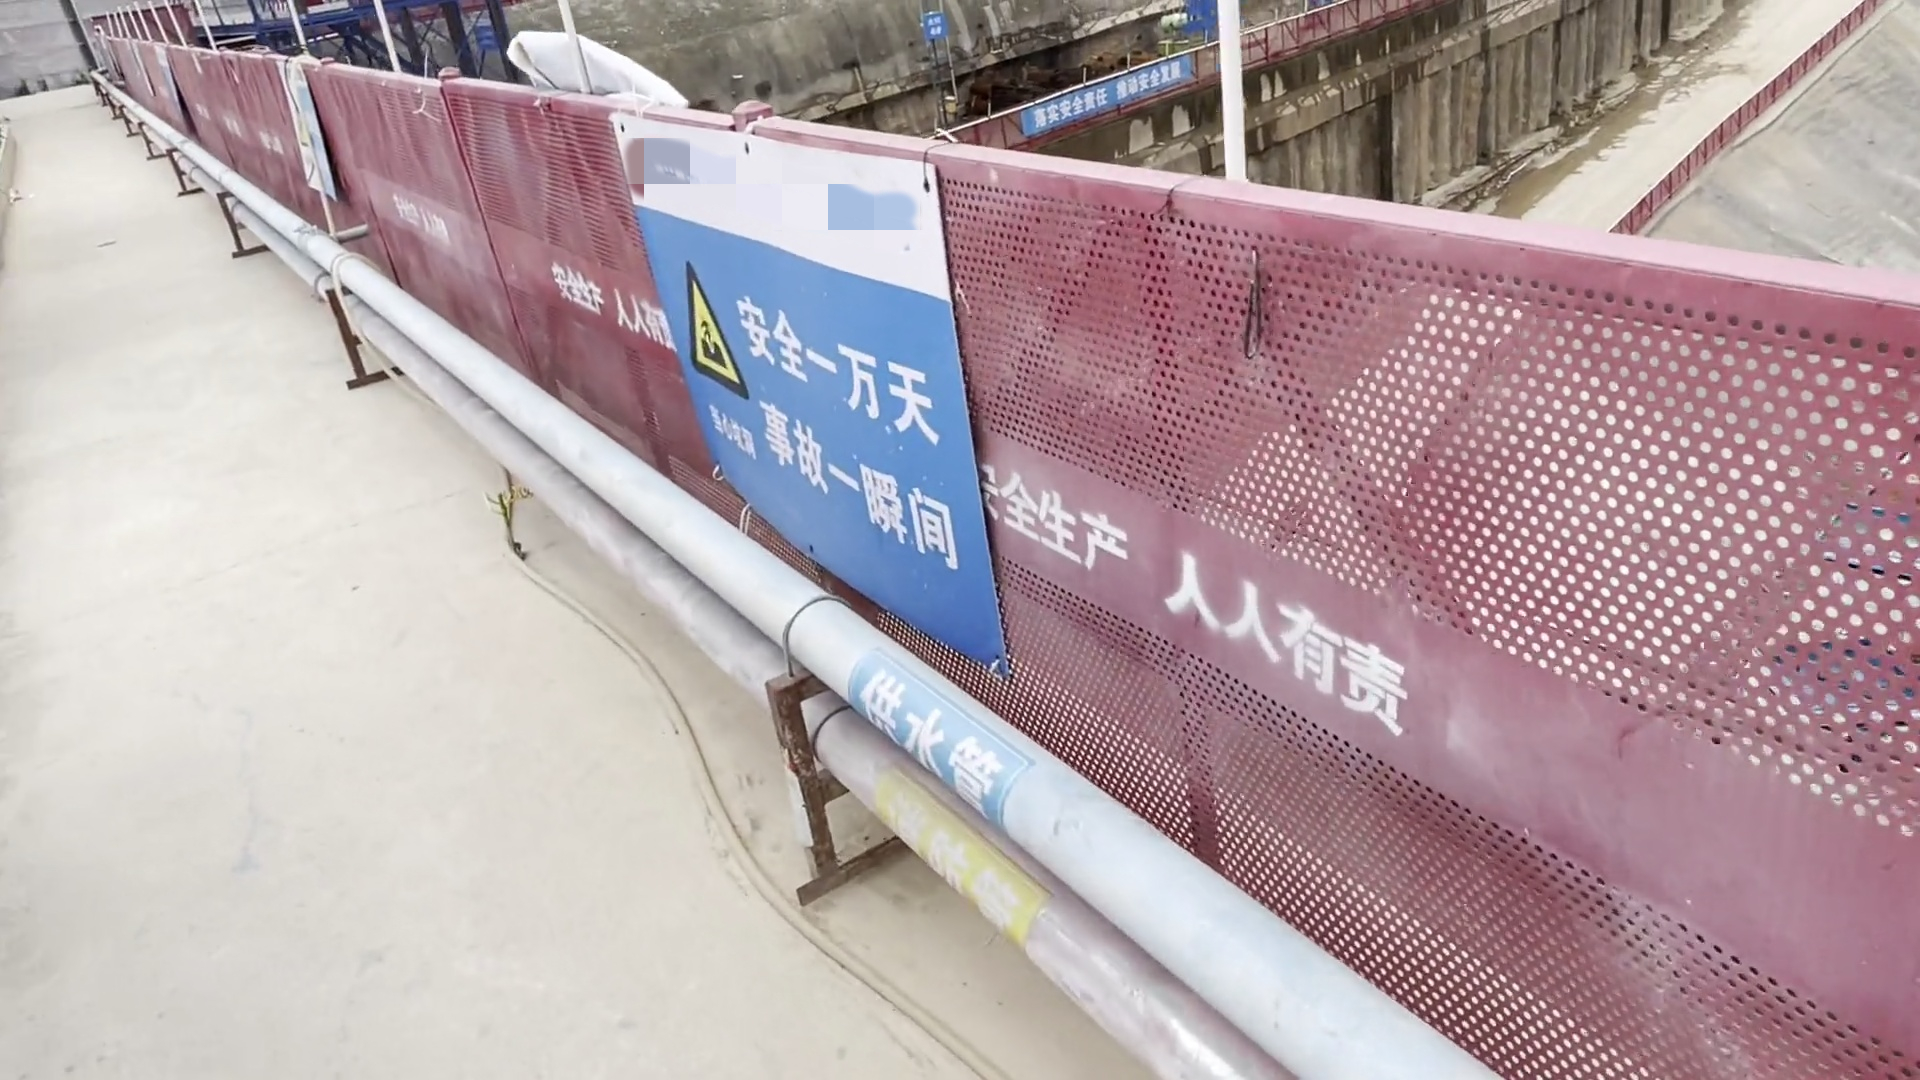fence: (1048, 131, 1920, 1052)
slogan: (592, 104, 1014, 678), (1017, 49, 1203, 141)
